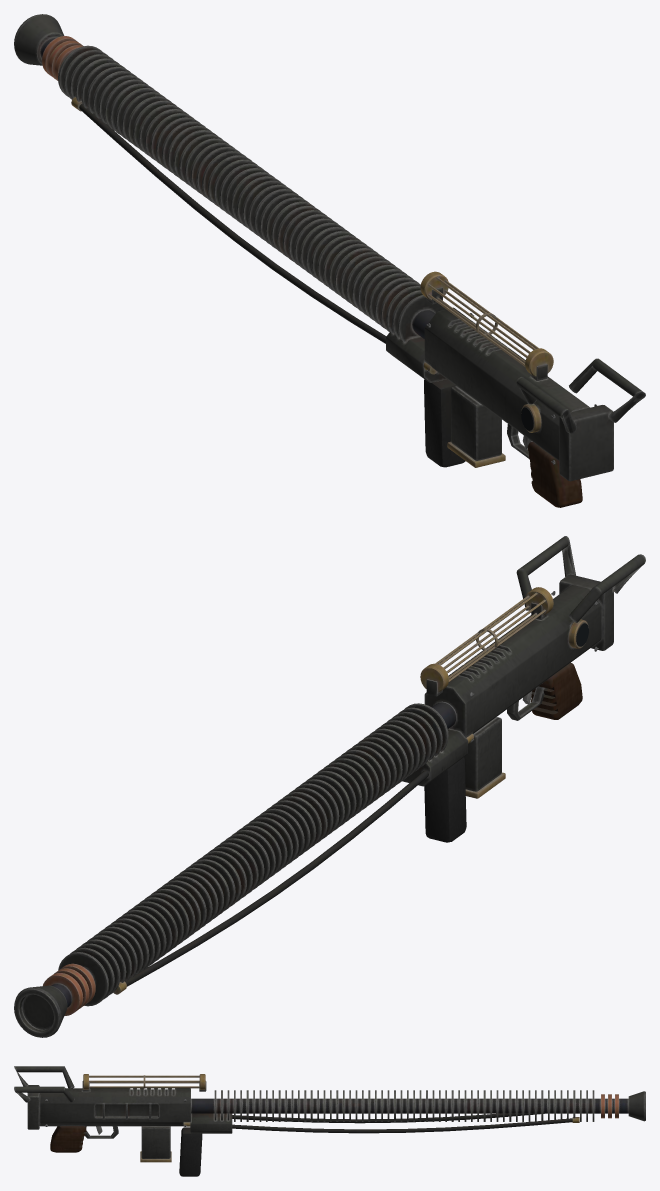
File: levy_impulse_cannon.glb
The picture shows the model from 3 angles, top to bottom: view 1: azimuth 30°, elevation 25°; view 2: azimuth 150°, elevation 25°; view 3: azimuth 270°, elevation 25°; orthographic projection. The views are drawn at different scales.
Parts seen in each view (by area): view 1: levy_impulse_cannon; view 2: levy_impulse_cannon; view 3: levy_impulse_cannon.
Boxes of the visible parts, x1,y1,x2,y2 form: levy_impulse_cannon: (14,14,645,507); levy_impulse_cannon: (14,536,645,1037); levy_impulse_cannon: (14,1066,645,1176).
Bounding box in the file's own units: 0.1358 × 0.2733 × 1.57.
Materials: 1 (1 with a texture image).
